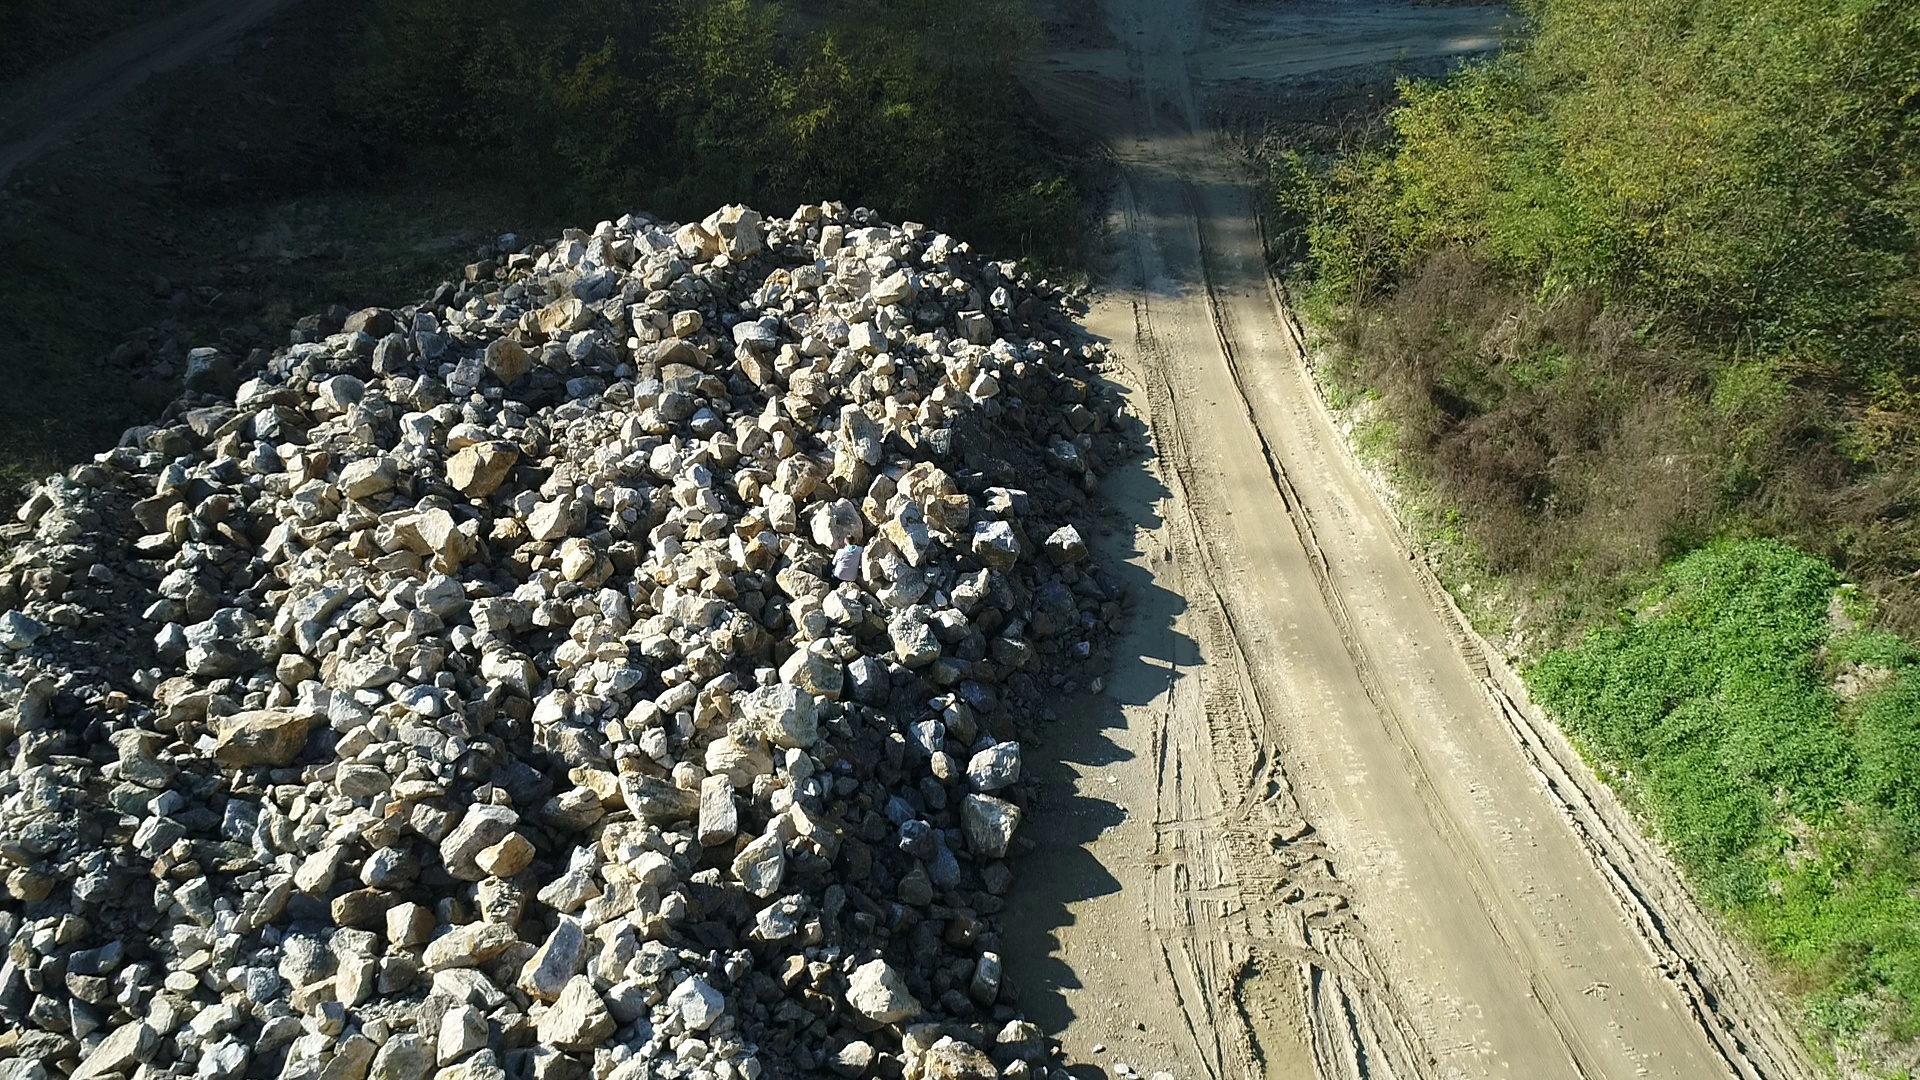person: (829, 534, 867, 586)
